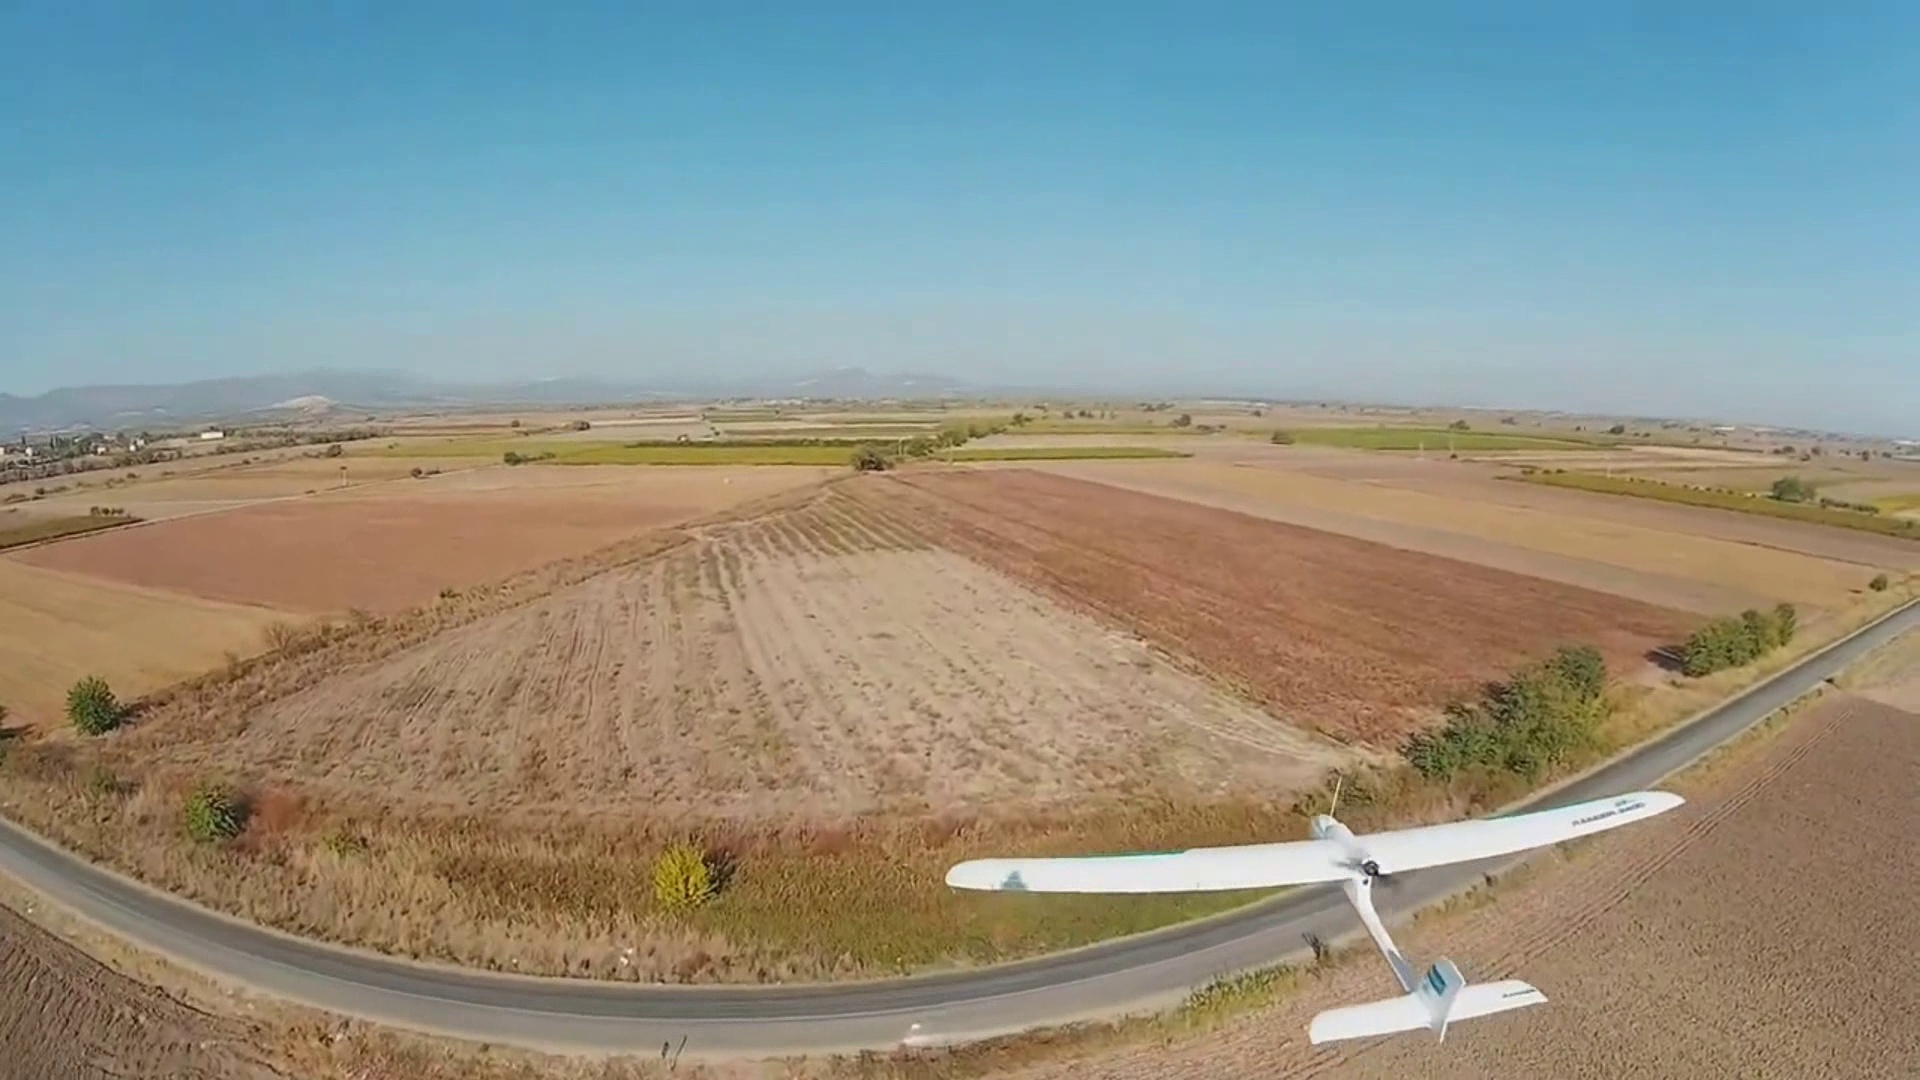airplane: (935, 591, 1917, 1059)
